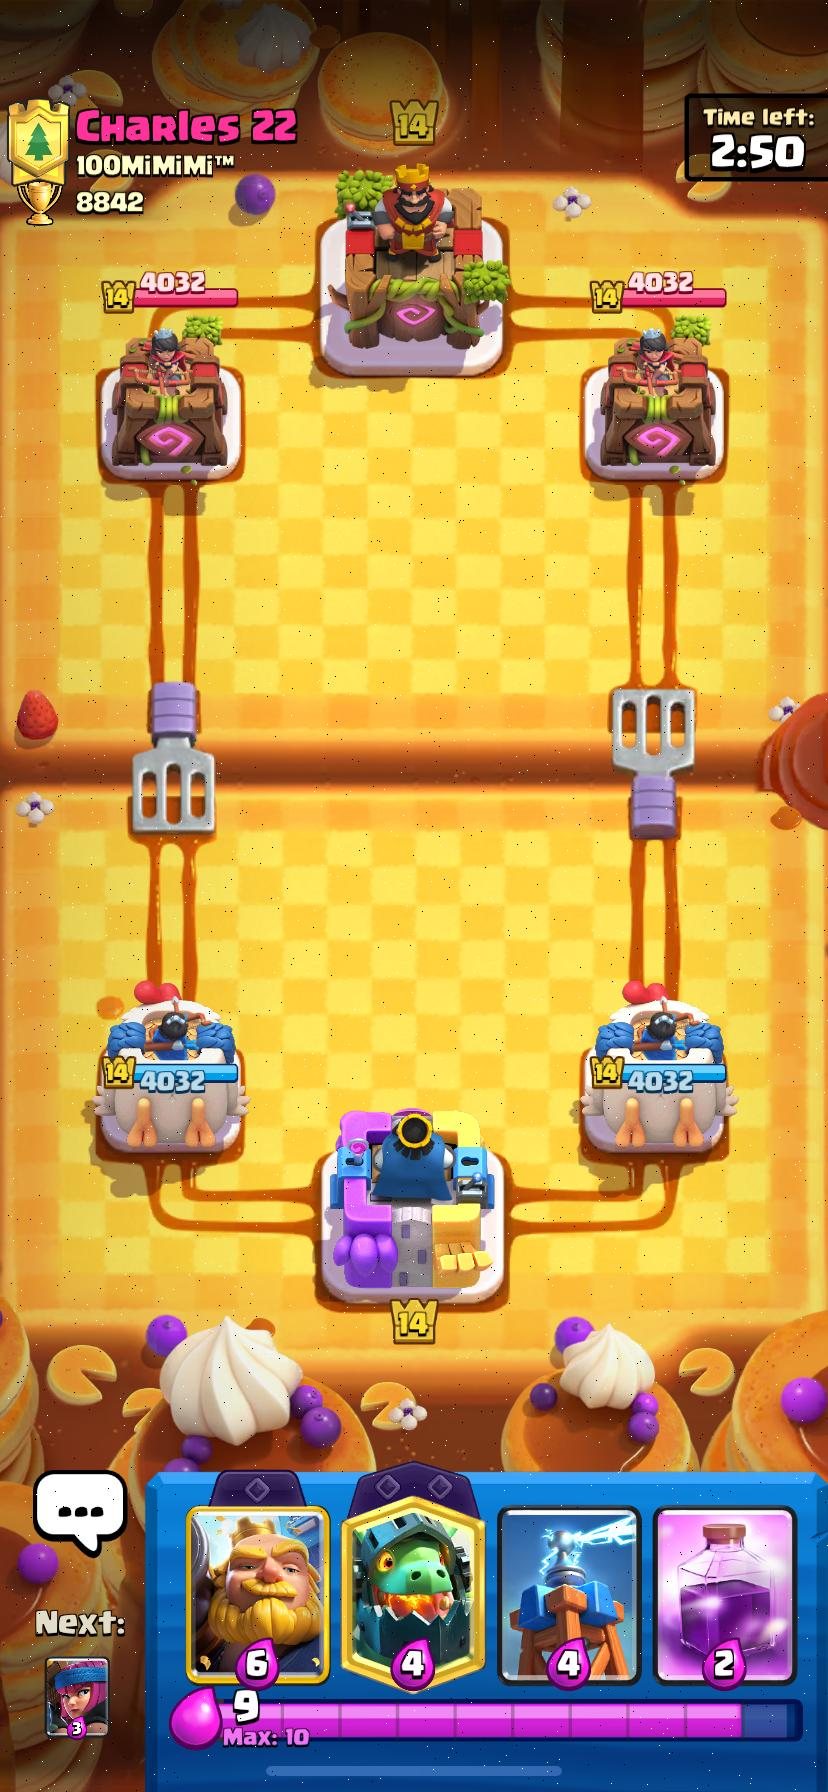EKingTower: (345, 165, 496, 350)
EnemyPrincessTower: (599, 329, 716, 473), (112, 328, 226, 474)
OwnKingTower: (334, 1109, 491, 1301)
OwnPrincessTower: (93, 997, 248, 1151), (580, 997, 735, 1150)
